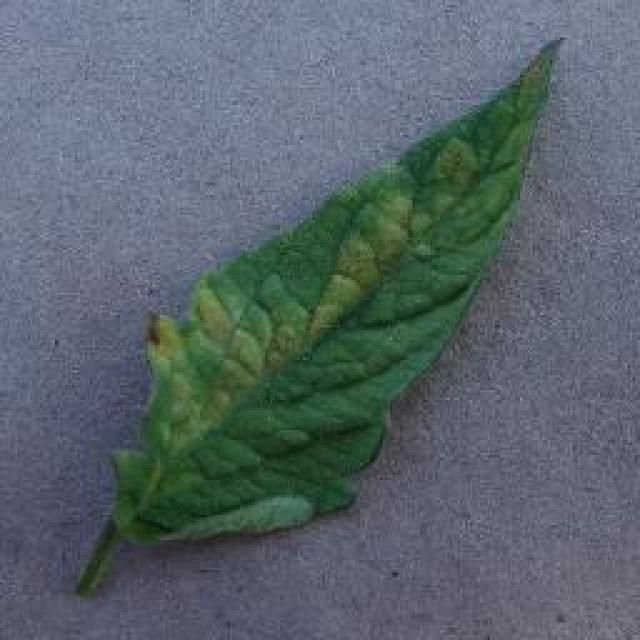Tomato mold leaf: (105, 32, 565, 552)
